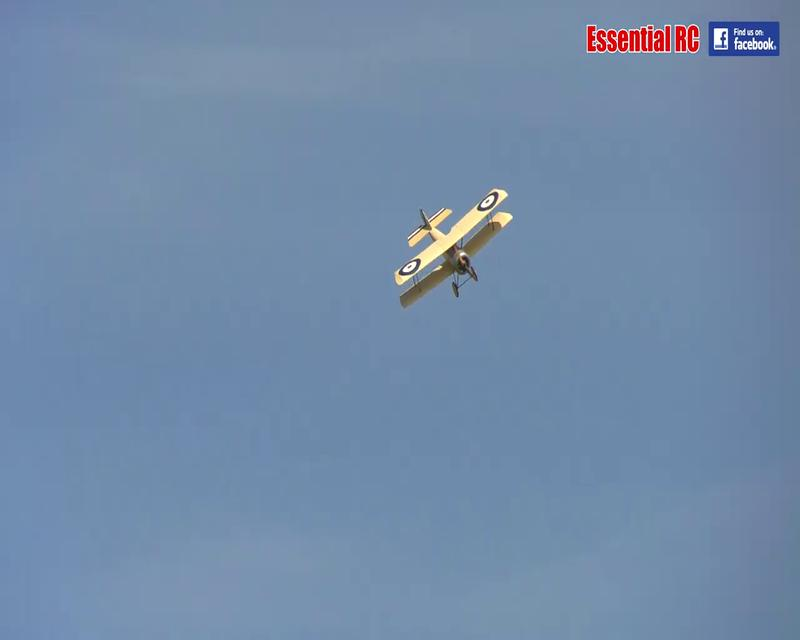UAV: (393, 187, 513, 309)
